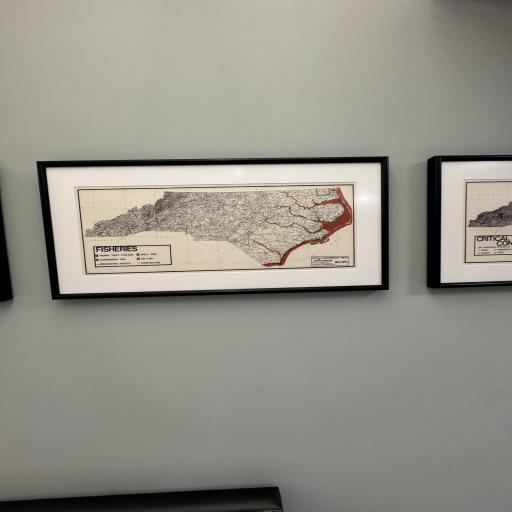poster: (32, 155, 390, 293), (425, 154, 512, 295)
